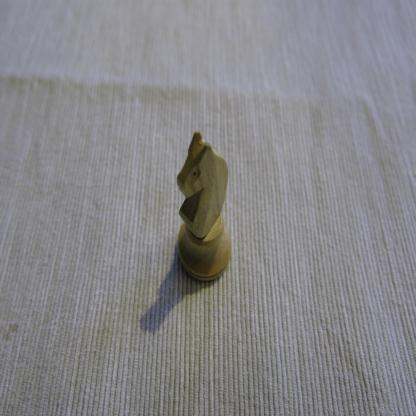white-knight: (176, 131, 232, 283)
